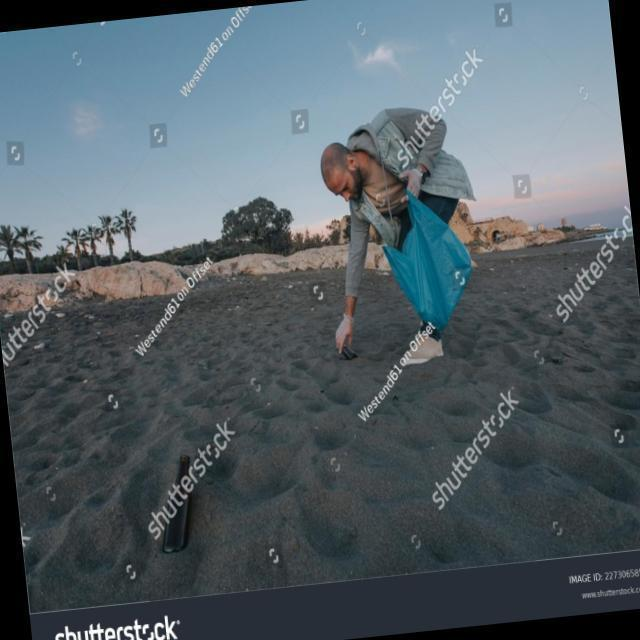Plastic_Bag: (370, 184, 484, 340)
